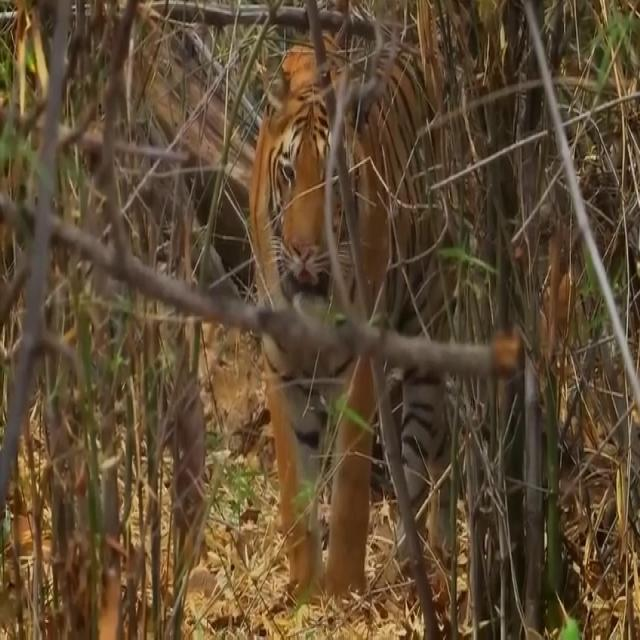tiger: (248, 28, 462, 601)
